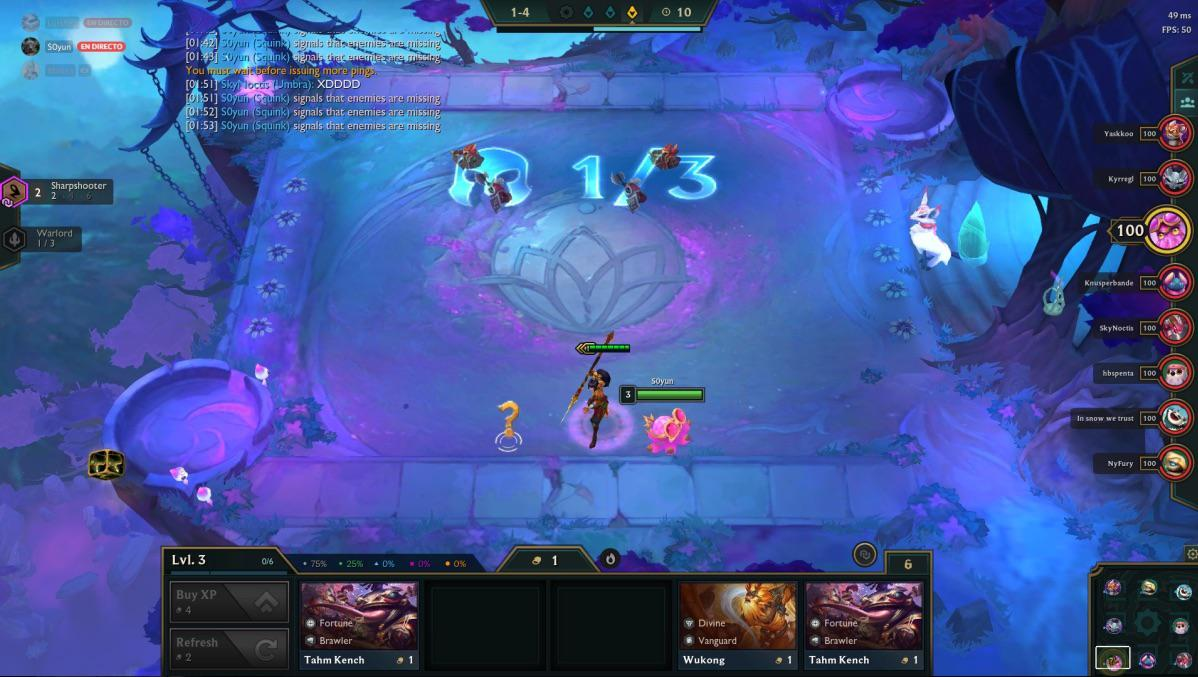3star_nidalee: (553, 324, 645, 458)
3star_nidalee_chosen: (551, 322, 643, 456)
trait_sharpshooter2: (1, 171, 118, 211)
trait_sharpshooter_chosen: (1, 169, 32, 212)
trait_warlord1: (1, 220, 118, 260)
